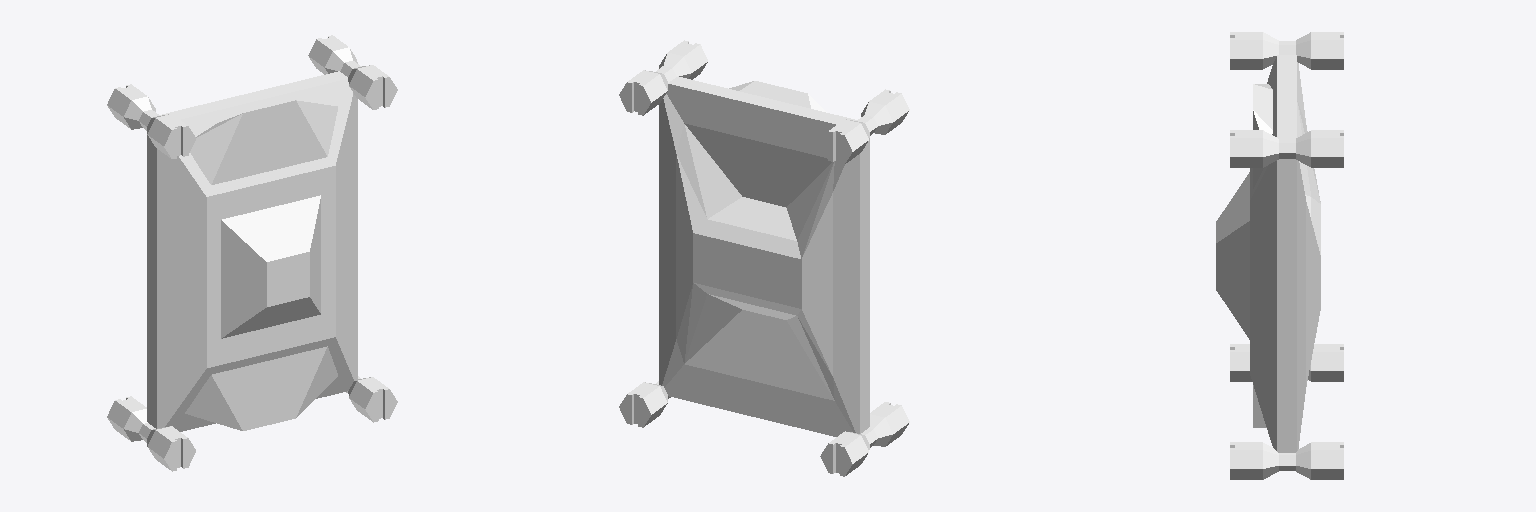
The model's file is bios_flagplat.obj.
3 renders of one model, left to right at view 1: azimuth 30°, elevation 25°; view 2: azimuth 150°, elevation 25°; view 3: azimuth 270°, elevation 25°, orthographic.
Parts seen in each view (by area): view 1: frm-cube7, frm-cube15, frm-cube14, frm-cube27, frm-cyl16, frm-cyl19, frm-cyl17, frm-cyl18, frm-cyl13, frm-cyl7, frm-cyl14; view 2: frm-cube7, frm-cyl13, frm-cyl14, frm-cyl7, frm-cyl15, frm-cyl16, frm-cyl17, frm-cyl19, frm-cube14; view 3: frm-cube7, frm-cube15, frm-cyl19, frm-cyl14, frm-cyl18, frm-cyl15, frm-cyl13, frm-cyl16, frm-cyl7, frm-cube14, frm-cyl17.
Part boxes in pixels (x1,y1,x2,y2): frm-cube7: (147,71,357,431); frm-cube15: (221,195,320,338); frm-cube14: (190,100,337,184); frm-cube27: (185,346,337,430); frm-cyl16: (143,113,195,158); frm-cyl19: (344,64,397,109); frm-cyl17: (143,426,195,471); frm-cyl18: (347,376,397,422); frm-cyl13: (107,84,155,130); frm-cyl7: (107,396,151,442); frm-cyl14: (308,35,357,74); frm-cube7: (659,76,869,436); frm-cyl13: (820,118,873,164); frm-cyl14: (619,69,671,115); frm-cyl7: (820,431,873,476); frm-cyl15: (619,381,668,427); frm-cyl16: (861,89,909,135); frm-cyl17: (865,402,909,447); frm-cyl19: (659,40,707,79); frm-cube14: (729,81,826,112); frm-cube7: (1250,55,1320,452); frm-cube15: (1216,172,1249,339); frm-cyl19: (1230,130,1286,167); frm-cyl14: (1287,130,1343,167); frm-cyl18: (1230,442,1286,479); frm-cyl15: (1287,442,1343,479); frm-cyl13: (1287,32,1343,69); frm-cyl16: (1230,32,1286,69); frm-cyl7: (1308,344,1343,381); frm-cube14: (1253,84,1272,188); frm-cyl17: (1230,344,1251,381).
Size of the model in its own units: 56.92 by 79.43 by 27.14.